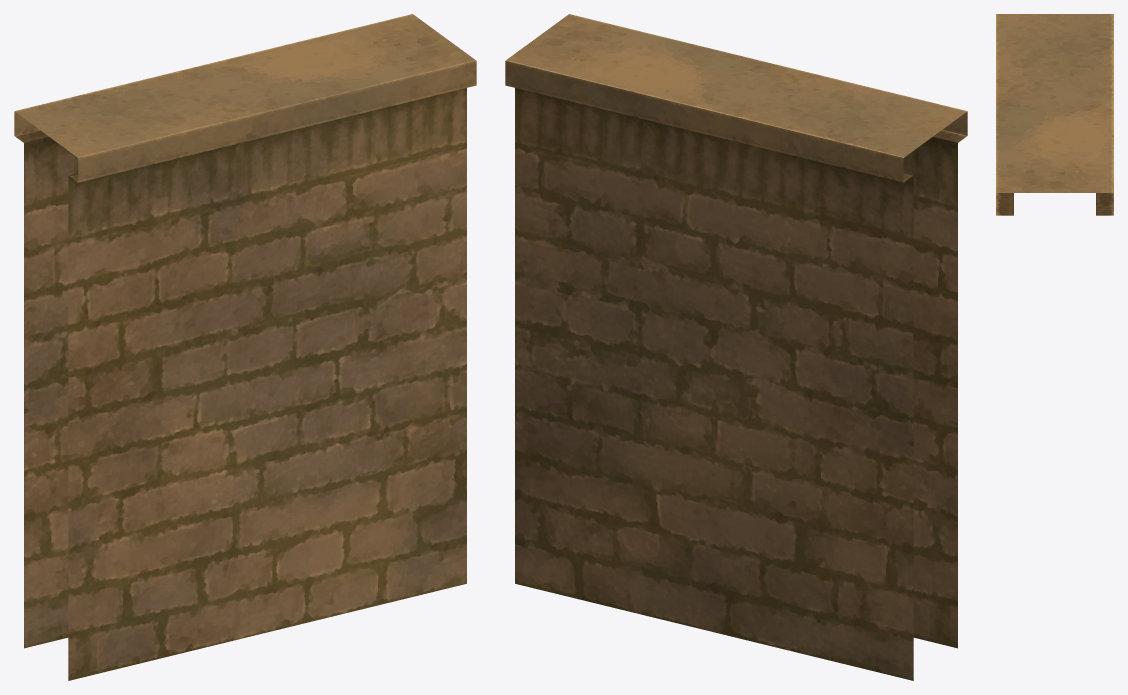
Rendered from wall_03.fbx.
The picture shows the model from 3 angles, left to right: view 1: azimuth 30°, elevation 25°; view 2: azimuth 150°, elevation 25°; view 3: azimuth 270°, elevation 25°; orthographic projection. The views are drawn at different scales.
Visible parts, largest first — view 1: wall_03; view 2: wall_03; view 3: wall_03.
Boxes of the visible parts, bbox=[...] form: wall_03: bbox=[14, 14, 476, 680]; wall_03: bbox=[505, 14, 967, 680]; wall_03: bbox=[996, 14, 1113, 215].
Bounding box in the file's own units: 200 × 254 × 55.56.
